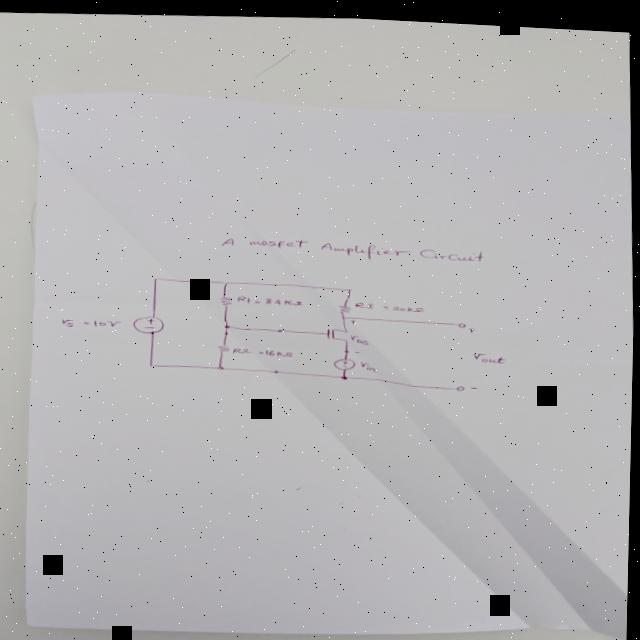junction: (222, 320, 232, 326), (215, 362, 225, 366), (339, 370, 349, 374), (148, 360, 155, 364), (346, 283, 352, 287), (221, 277, 229, 280), (340, 311, 347, 314), (152, 274, 158, 277)
resistor: (219, 292, 233, 302), (337, 299, 351, 308), (217, 340, 231, 349)
source: (130, 312, 166, 332), (332, 352, 357, 366)
terminal: (455, 379, 465, 385), (454, 316, 466, 321)
text: (219, 224, 484, 265), (354, 294, 425, 309), (236, 289, 304, 304), (231, 341, 294, 355), (60, 314, 122, 327), (471, 344, 506, 358), (348, 327, 370, 340), (360, 354, 378, 367), (467, 320, 476, 327), (349, 313, 357, 319), (469, 379, 479, 383), (353, 345, 361, 348)
transistor: (326, 321, 349, 337)
